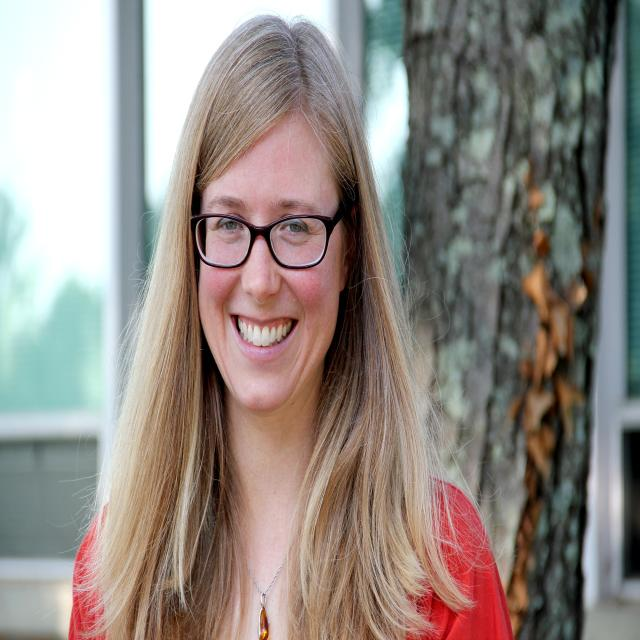mobile_phonerotation: (65, 12, 515, 638)
